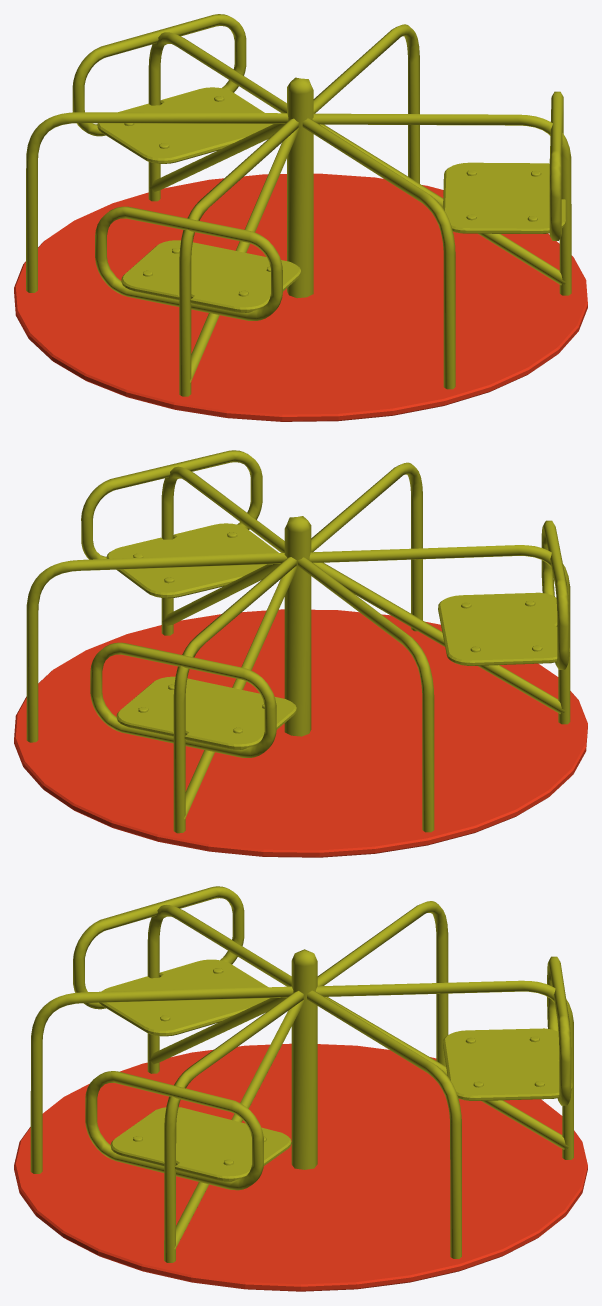
The model's file is merry_LOD1.fbx.
The picture shows the model from 3 angles, top to bottom: view 1: azimuth 30°, elevation 25°; view 2: azimuth 150°, elevation 25°; view 3: azimuth 270°, elevation 25°; orthographic projection.
Visible parts, largest first — view 1: child swing2; view 2: child swing2; view 3: child swing2.
Part boxes in pixels (bbox=[...]): child swing2: bbox=[14, 14, 587, 421]; child swing2: bbox=[14, 450, 587, 857]; child swing2: bbox=[14, 886, 587, 1291].
Size of the model in its own units: 790 by 386 by 790.
